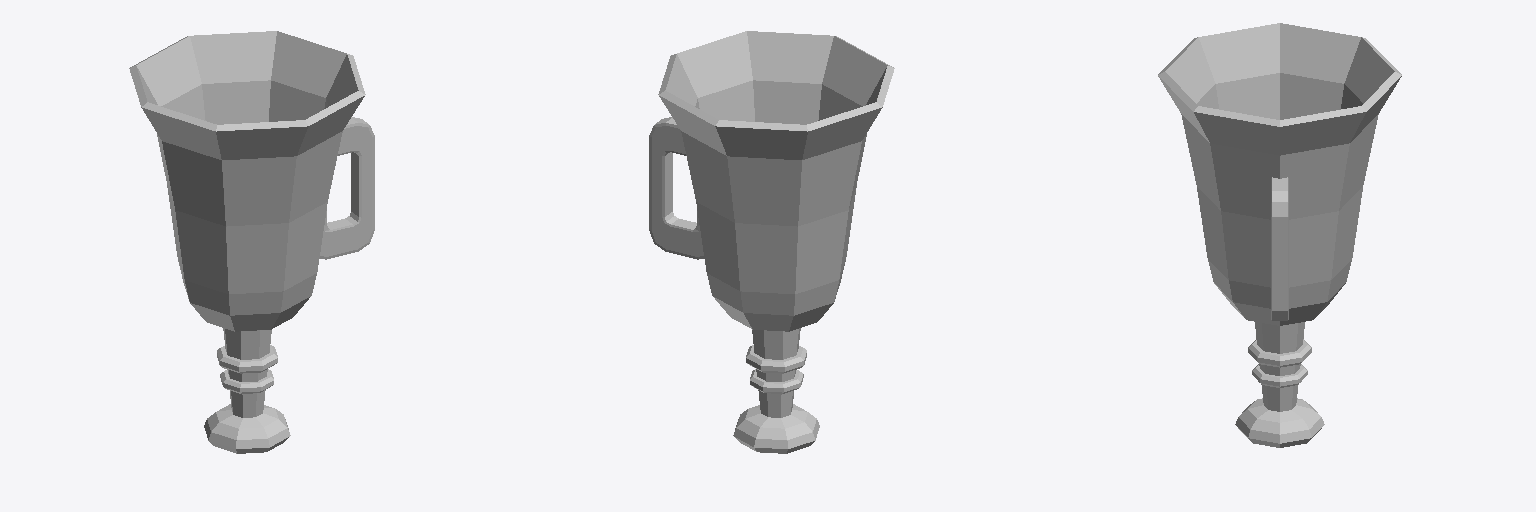
File: sercups_irish_coffee_glass.obj
3 views of the same model, side by side, from view 1: azimuth 30°, elevation 25°; view 2: azimuth 150°, elevation 25°; view 3: azimuth 270°, elevation 25° (orthographic).
Parts seen in each view (by area): view 1: sercups_irish_coffee_glass_Cylinder.111; view 2: sercups_irish_coffee_glass_Cylinder.111; view 3: sercups_irish_coffee_glass_Cylinder.111.
Part boxes in pixels (x1,y1,x2,y2): sercups_irish_coffee_glass_Cylinder.111: (129, 31, 374, 453); sercups_irish_coffee_glass_Cylinder.111: (649, 31, 894, 453); sercups_irish_coffee_glass_Cylinder.111: (1158, 23, 1401, 447).
Bounding box in the file's own units: 2.18 × 3.28 × 2.02.